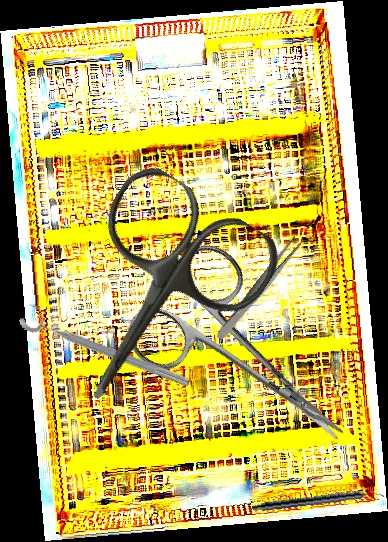Dressing Forceps: (214, 234, 305, 344)
Fixation Ring: (16, 300, 197, 392)
Handpiece: (251, 487, 385, 515)
Iris Scissors: (19, 156, 290, 444), (115, 234, 383, 492)
